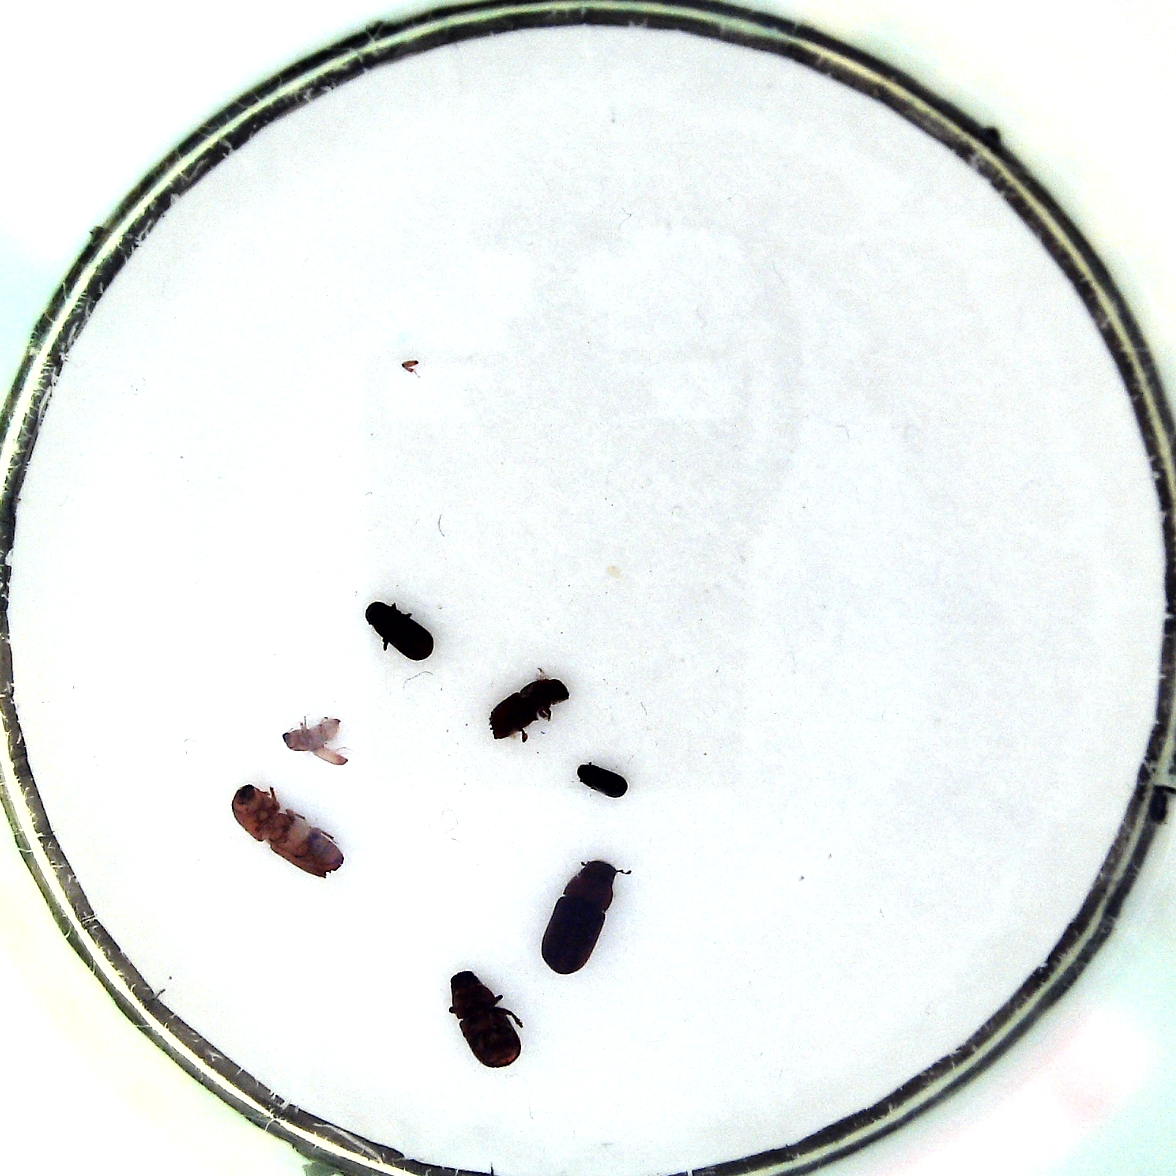Boerner: (230, 782, 344, 879)
Leconte: (540, 859, 624, 974), (447, 967, 526, 1069)
Linnaeus: (488, 674, 568, 741)
acuminatus: (276, 715, 349, 767)
armandi: (365, 593, 435, 664)
coleoptera: (575, 759, 631, 798)
